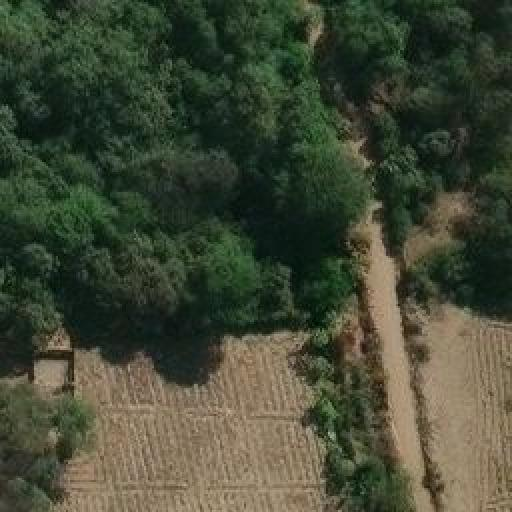manzanas: (27, 320, 83, 423)
